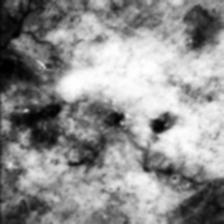Potentially Malignant Skin Tumors: (7, 50, 201, 200)
